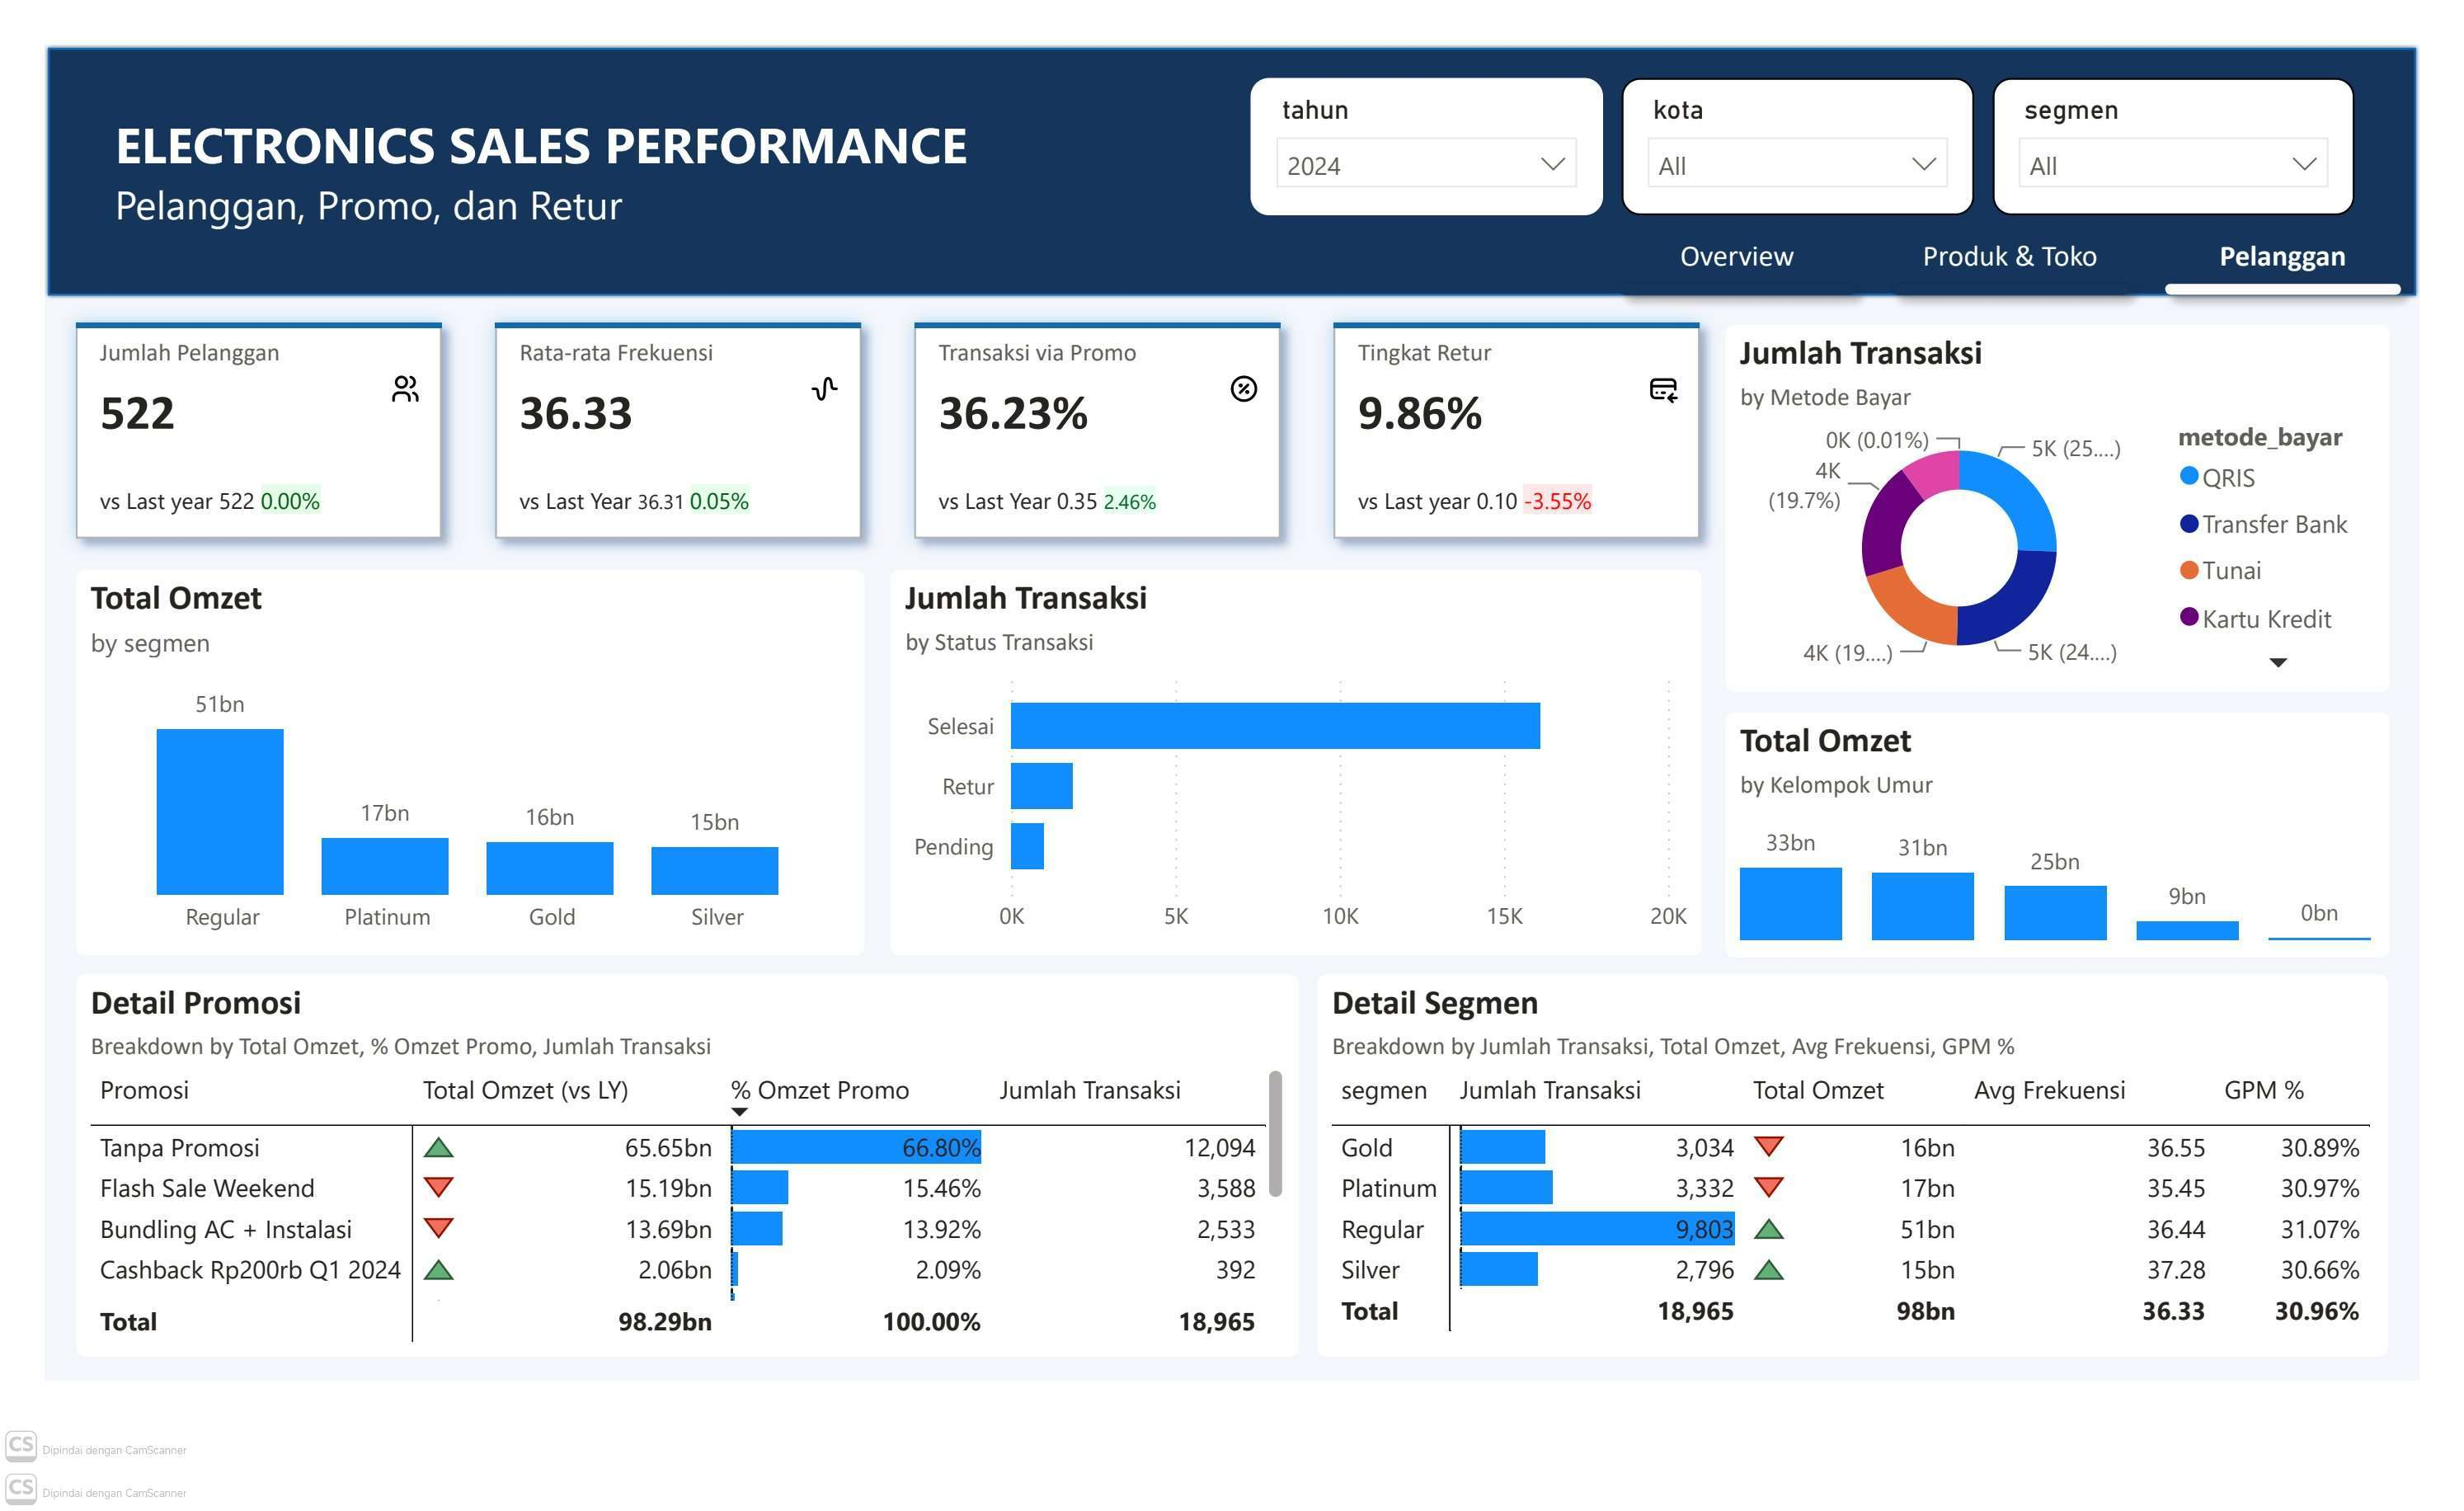

This screenshot's page, from the dashboard's own definition file:
{"tool":"powerbi","page":{"name":"Pelanggan","canvas":[1280,720],"ordinal":2},"visuals":[{"type":"columnChart","fields":{"Category":["DIM_PELANGGAN.segmen"],"Y":["_MEASURE.Total Omzet"]},"box":[16.7,283.3,425.6,207.8],"z":0},{"type":"columnChart","title":"Total Omzet","fields":{"Category":["DIM_PELANGGAN.kelompok_umur"],"Y":["_MEASURE.Total Omzet"]},"box":[905.7,360,357.9,132.1],"z":1000},{"type":"donutChart","title":"Jumlah Transaksi","fields":{"Category":["FACT_PENJUALAN.metode_bayar"],"Y":["_MEASURE.Jumlah Transaksi"]},"box":[906,151,358,198],"z":2000},{"type":"barChart","title":"Jumlah Transaksi","fields":{"Category":["FACT_PENJUALAN.status_transaksi"],"Y":["_MEASURE.Jumlah Transaksi"]},"box":[455.7,282.9,437.1,208.6],"z":3000},{"type":"shape","box":[0,0,1280.2,137.2],"z":4000},{"type":"textbox","box":[32.6,30.2,608.1,76.7],"z":5000},{"type":"slicer","fields":{"Values":["DIM_PELANGGAN.segmen"]},"box":[1050,18.2,194.5,73.6],"z":6000},{"type":"slicer","fields":{"Values":["DIM_PELANGGAN.kota"]},"box":[850,18.2,190,73.6],"z":7000},{"type":"group","id":"g1","title":"Group 1","box":[840,91.2,440,53],"z":8000},{"type":"slicer","fields":{"Values":["DIM_WAKTU.tahun"]},"box":[650,18.2,190,73.3],"z":9000},{"type":"pageNavigator","box":[840,91.2,440,43.8],"z":9000,"group":"g1"},{"type":"pageNavigator","box":[840,120,440,24.3],"z":10000,"group":"g1"},{"type":"pivotTable","title":"Detail Segmen","fields":{"Rows":["DIM_PELANGGAN.segmen"],"Values":["_MEASURE.Jumlah Transaksi","_MEASURE.Total Omzet","_MEASURE.Avg Frekuensi","_MEASURE.GPM %"]},"box":[685.7,501.4,577.1,205.7],"z":10000},{"type":"pivotTable","title":"Detail Promosi","fields":{"Rows":["DIM_PROMOSI.nama_promosi"],"Values":["_MEASURE.Total Omzet","_MEASURE.% Omzet Promo","_MEASURE.Jumlah Transaksi"]},"box":[17.1,501.4,658.6,205.7],"z":11000},{"type":"cardVisual","fields":{"Data":["_MEASURE.Jumlah Pelanggan","_MEASURE.Avg Frekuensi","_MEASURE.% Transaksi Promo","_MEASURE.% Retur"]},"box":[0,132.9,911.7,150],"z":12000}]}

Visuals, with their boxes on the page's 1280x720 design canvas (x1, y1, x2, y2). These are canvas units, not pixel positions in the 2464x1511 screenshot, which may show the page scaled, cropped or inside an application window:
columnChart - DIM_PELANGGAN.segmen x _MEASURE.Total Omzet: <region>17, 283, 442, 491</region>
"Total Omzet" columnChart: <region>906, 360, 1264, 492</region>
"Jumlah Transaksi" donutChart: <region>906, 151, 1264, 349</region>
"Jumlah Transaksi" barChart: <region>456, 283, 893, 492</region>
shape: <region>0, 0, 1280, 137</region>
textbox: <region>33, 30, 641, 107</region>
slicer - DIM_PELANGGAN.segmen: <region>1050, 18, 1244, 92</region>
slicer - DIM_PELANGGAN.kota: <region>850, 18, 1040, 92</region>
"Group 1" group: <region>840, 91, 1280, 144</region>
slicer - DIM_WAKTU.tahun: <region>650, 18, 840, 92</region>
pageNavigator: <region>840, 91, 1280, 135</region>
pageNavigator: <region>840, 120, 1280, 144</region>
"Detail Segmen" pivotTable: <region>686, 501, 1263, 707</region>
"Detail Promosi" pivotTable: <region>17, 501, 676, 707</region>
cardVisual - _MEASURE.Jumlah Pelanggan x _MEASURE.Avg Frekuensi: <region>0, 133, 912, 283</region>
